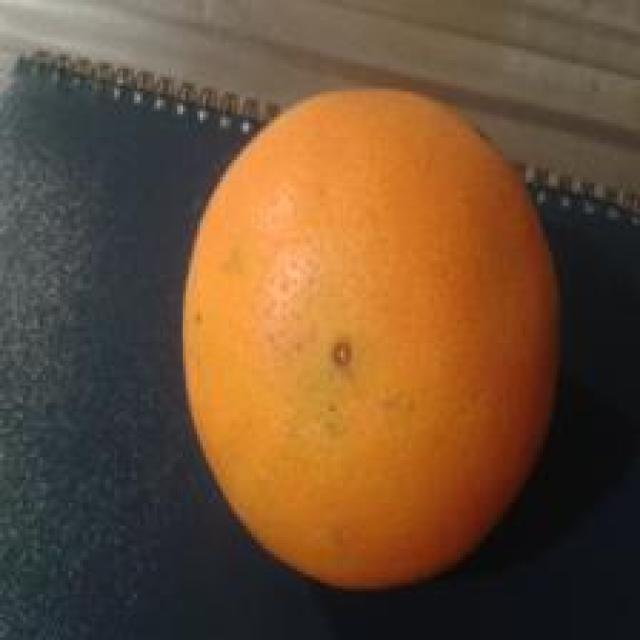Orange: (180, 86, 560, 592)
